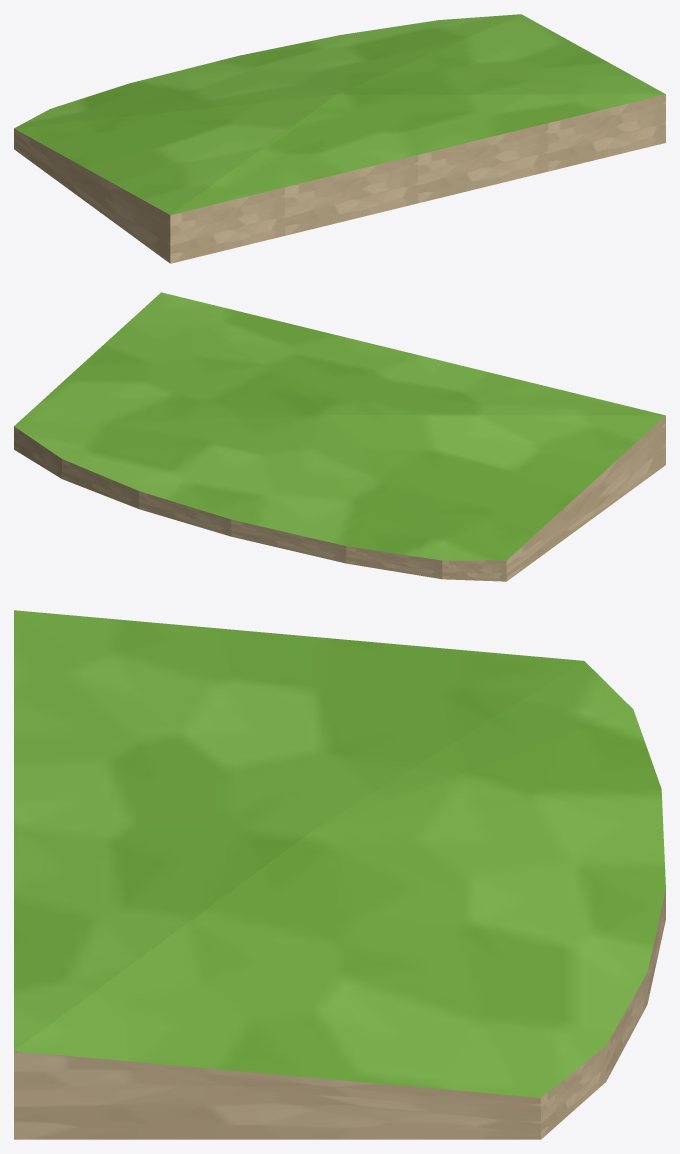
The model's file is grassy_bank.glb.
3 renders of one model, top to bottom at view 1: azimuth 30°, elevation 25°; view 2: azimuth 150°, elevation 25°; view 3: azimuth 270°, elevation 25°, orthographic. The views are drawn at different scales.
Parts seen in each view (by area): view 1: beach_grassy_bank; view 2: beach_grassy_bank; view 3: beach_grassy_bank.
Boxes of the visible parts, <box> form: beach_grassy_bank: <box>14,14,665,263</box>; beach_grassy_bank: <box>14,292,665,581</box>; beach_grassy_bank: <box>14,610,665,1139</box>.
Size of the model in its own units: 8 by 0.75 by 5.
Materials: 1 (1 with a texture image).
